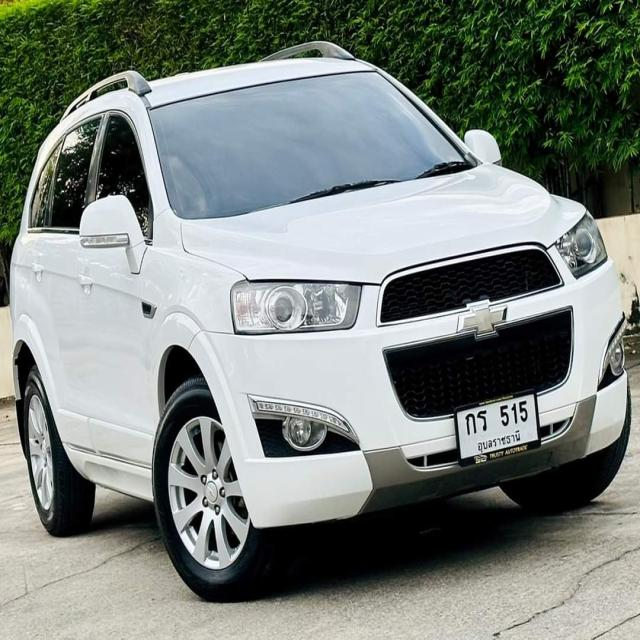license_plate: (453, 387, 544, 470)
